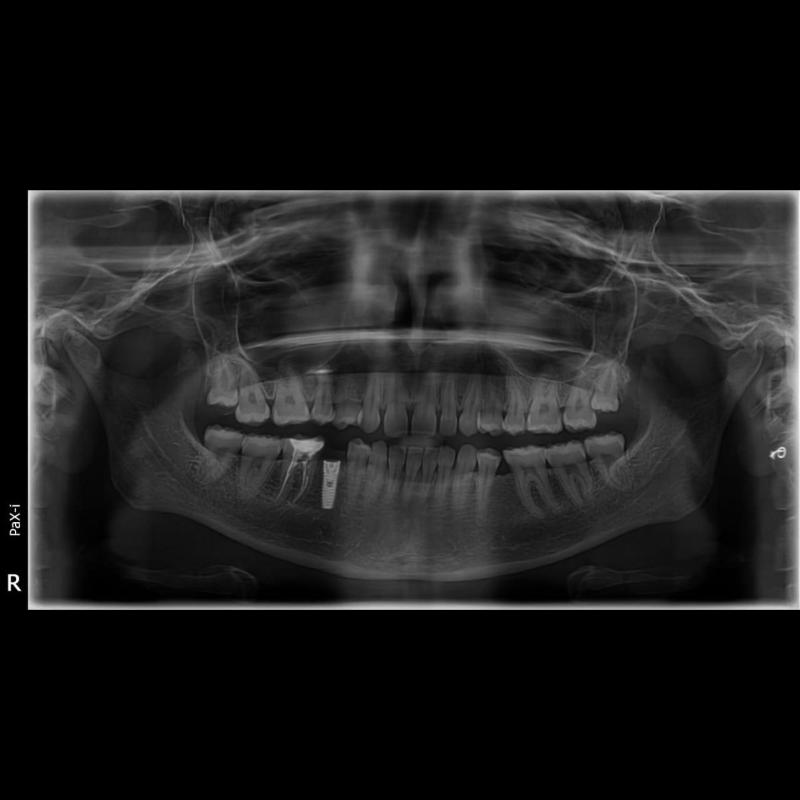osstem: (318, 459, 346, 517)
